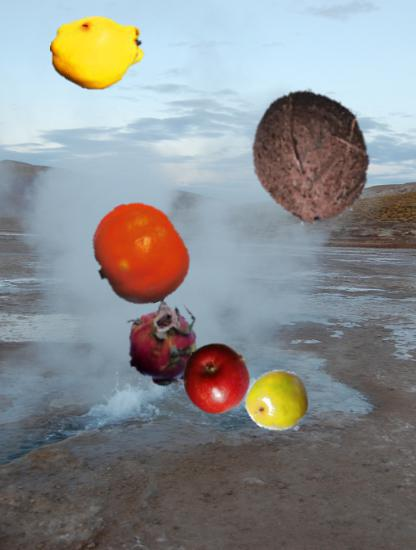Apple: (181, 343, 252, 414)
Clementine: (88, 201, 193, 306)
Cocos: (241, 87, 380, 226)
Maracuja: (247, 369, 311, 433)
Pitahaya: (114, 293, 211, 390)
Quince: (50, 6, 146, 102)
